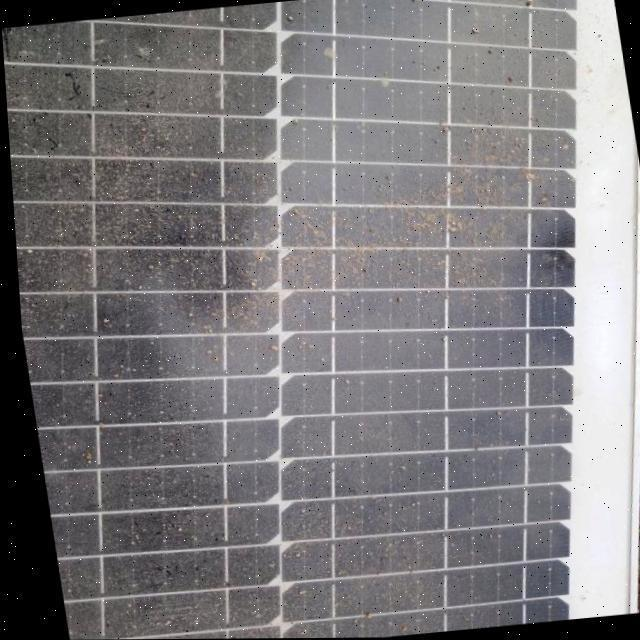Surface Contaminant: (1, 0, 603, 640)
